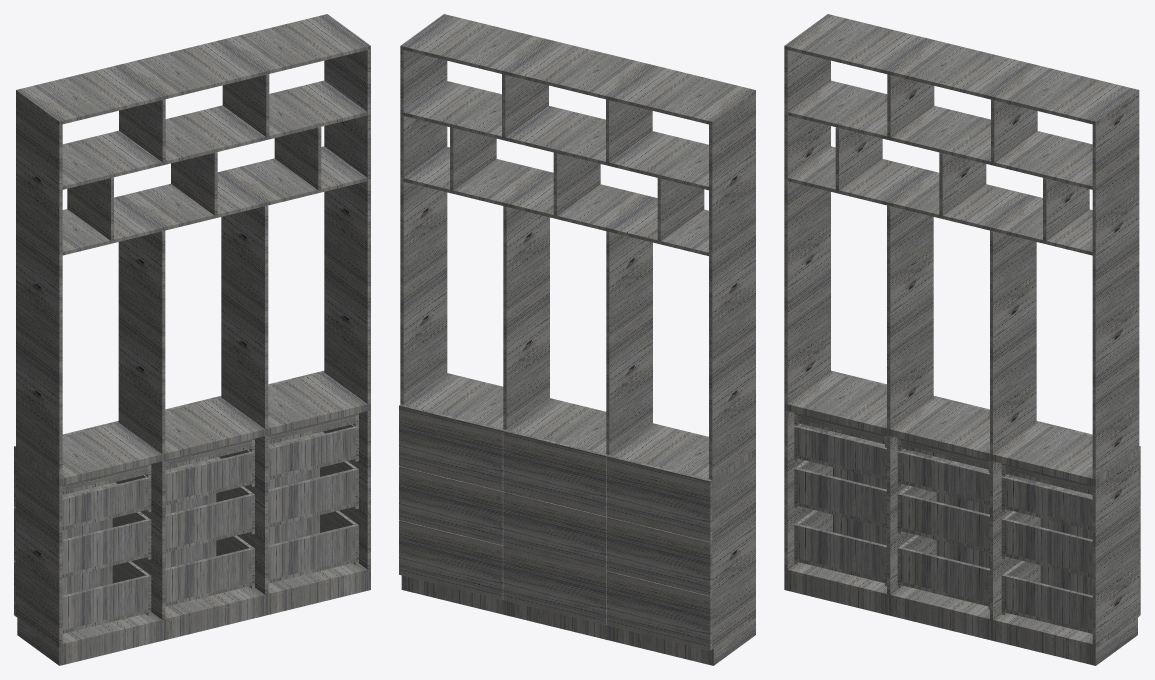
The model's file is mueble__01.glb.
3 renders of one model, left to right at view 1: azimuth 30°, elevation 25°; view 2: azimuth 150°, elevation 25°; view 3: azimuth 330°, elevation 25°, orthographic.
Parts seen in each view (by area): view 1: Object_2; view 2: Object_2; view 3: Object_2.
Boxes of the visible parts, x1,y1,x2,y2 form: Object_2: [14, 14, 370, 665]; Object_2: [399, 14, 755, 665]; Object_2: [784, 14, 1140, 665].
Size of the model in its own units: 71.88 by 120 by 18.13.
Materials: 1 (1 with a texture image).
